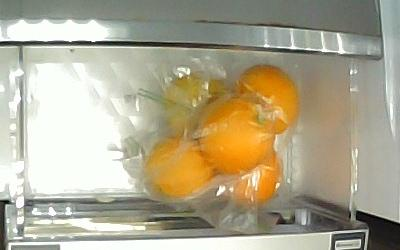orange_vinyl: (197, 95, 276, 175), (232, 64, 301, 136), (147, 135, 214, 198), (163, 74, 226, 139), (228, 149, 282, 206)
